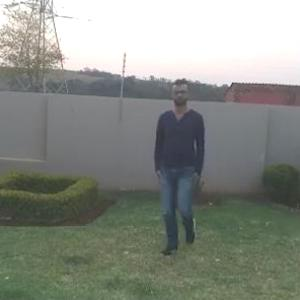follow: (151, 77, 210, 258)
